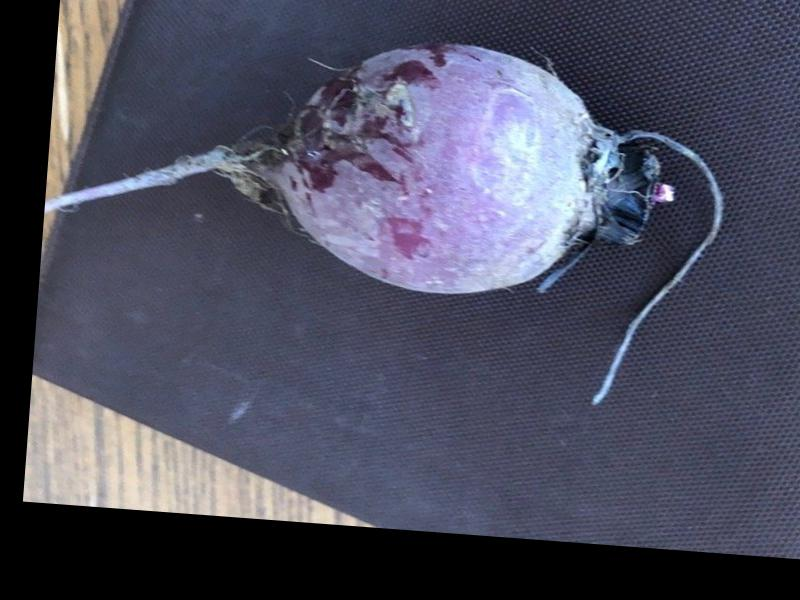Beet: (32, 12, 734, 414)
